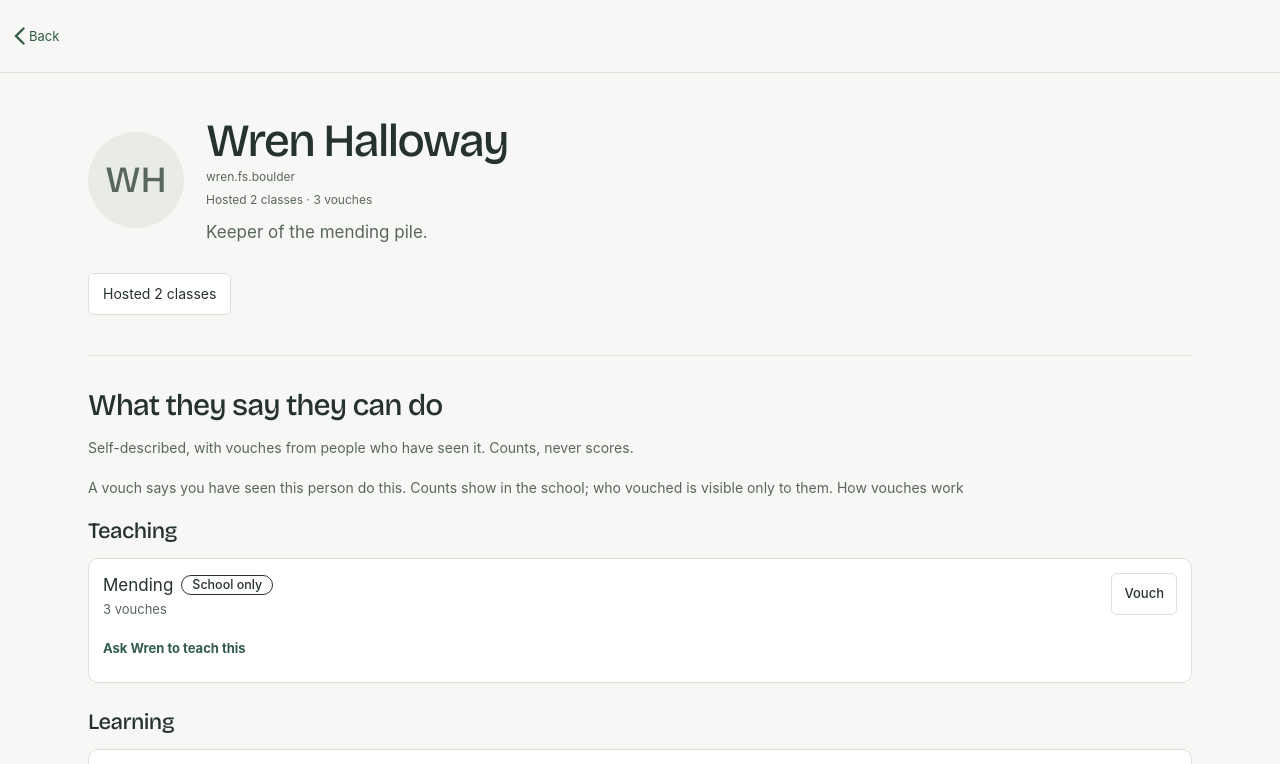
MemberProfileScreen › reconciles with the server when the vouch is refused, instead of failing again on retry
Click the button "Vouch" in the row of "School only". click: [1144, 594]
box: [1112,573,1177,615]
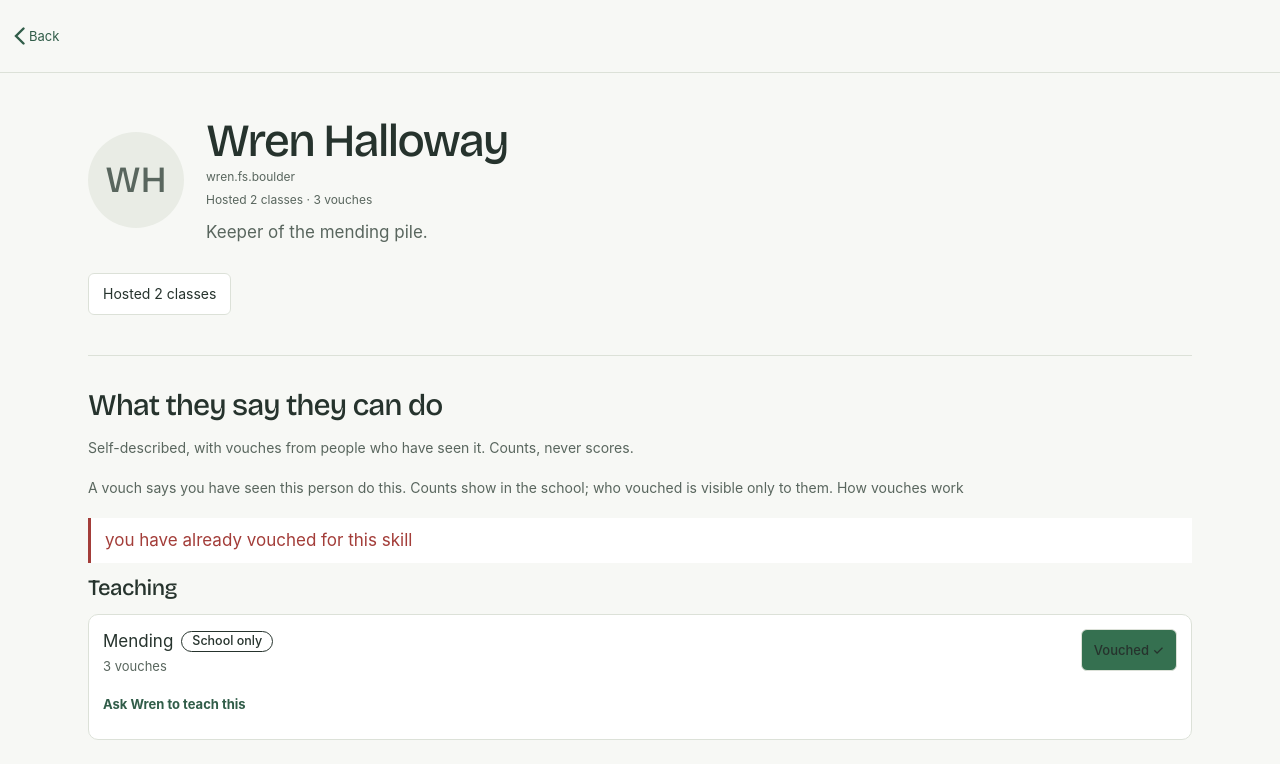
Check: the text "you have already vouched for this skill" is shown, box [88,518,1192,563]
Check: the button "Vouched ✓" is shown, box [1081,629,1177,671]
